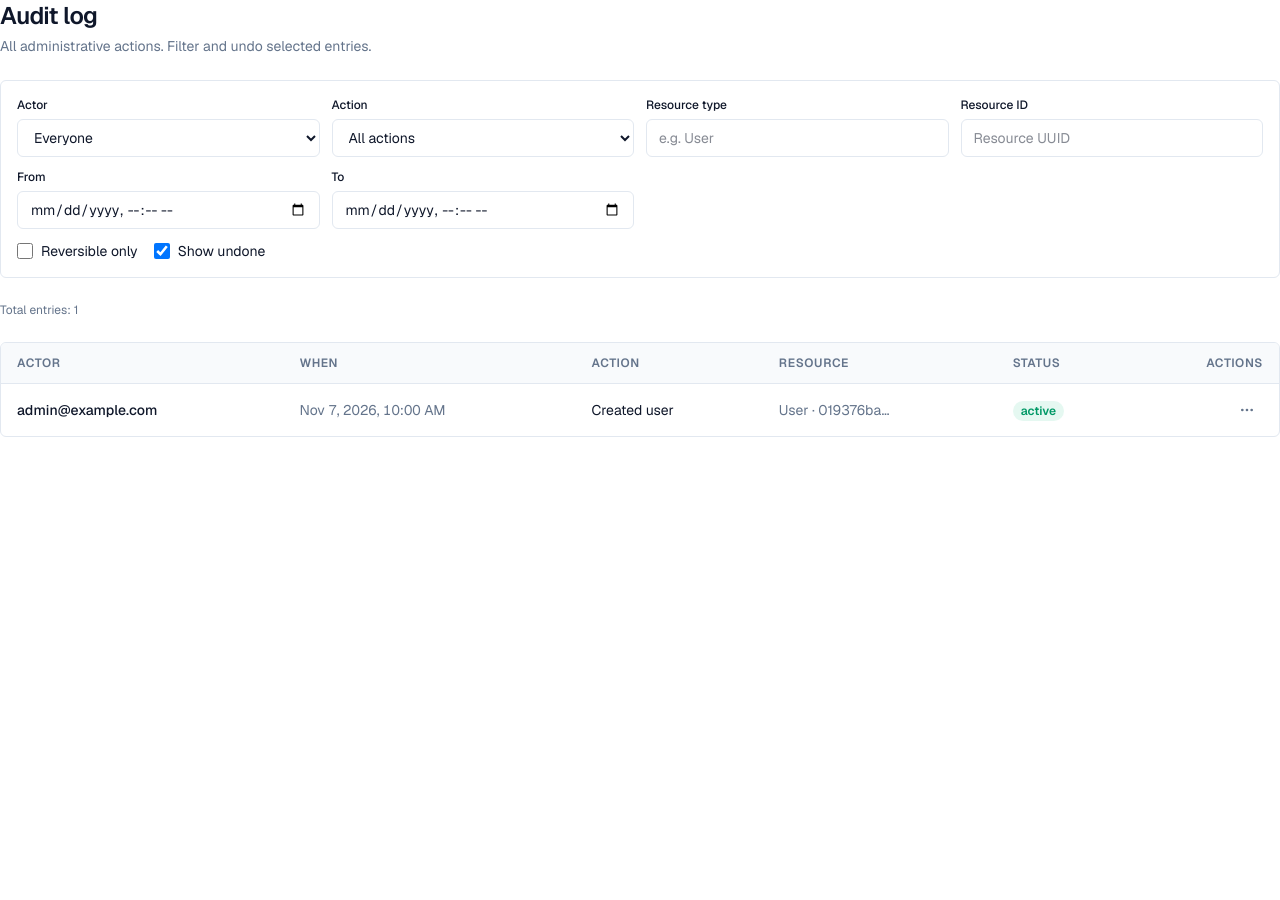
Test: AdminAuditPage › should open the undo dialog with the describe-undo text when Undo is clicked
What coordinates should you click on to do the following:
click the button named "row actions"
I would click on:
 (1247, 410)
Its box is [1231,396,1263,424].
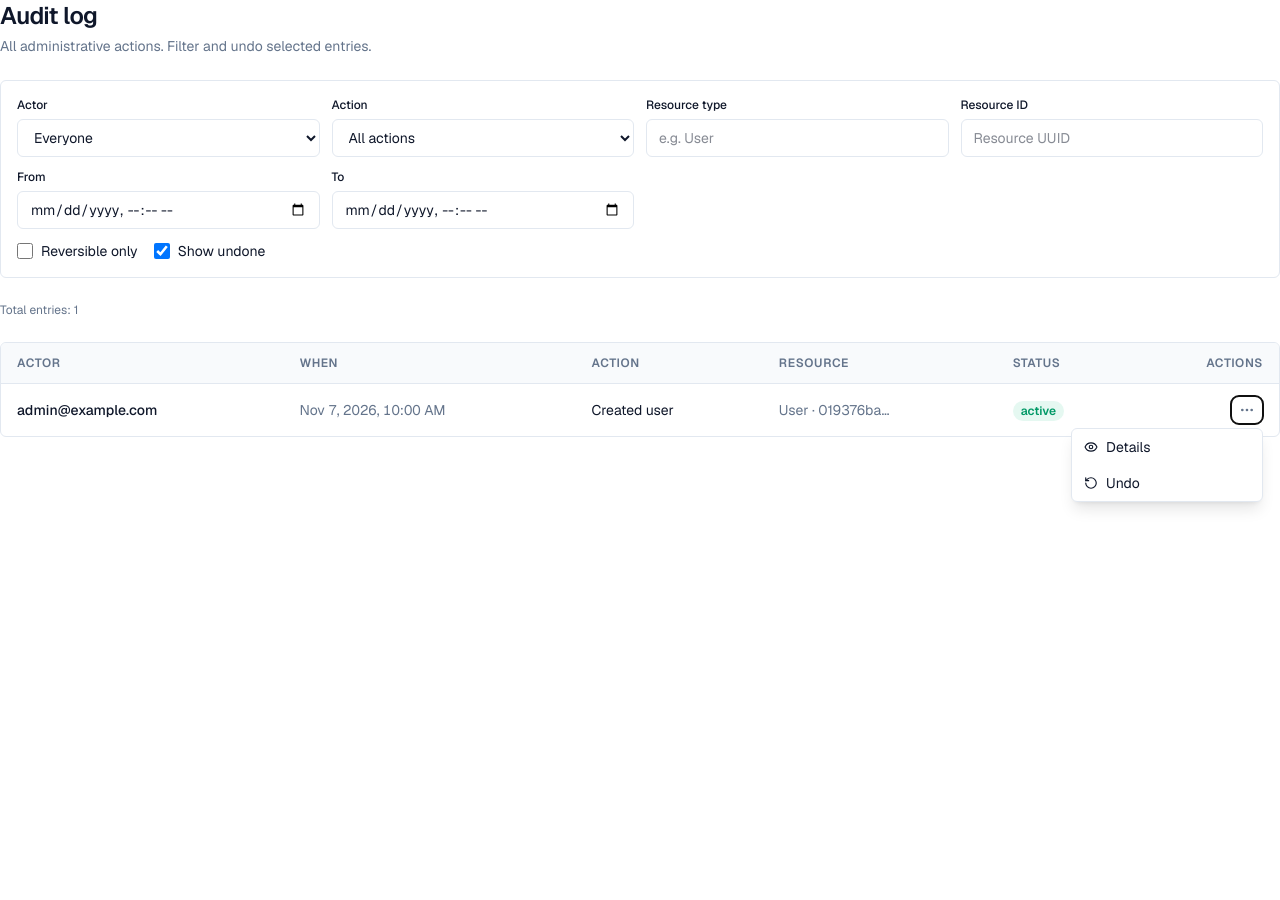
What coordinates should you click on to do the following:
click the menu item "Undo"
I would click on:
 (1167, 483)
Its box is [1072,465,1262,501].
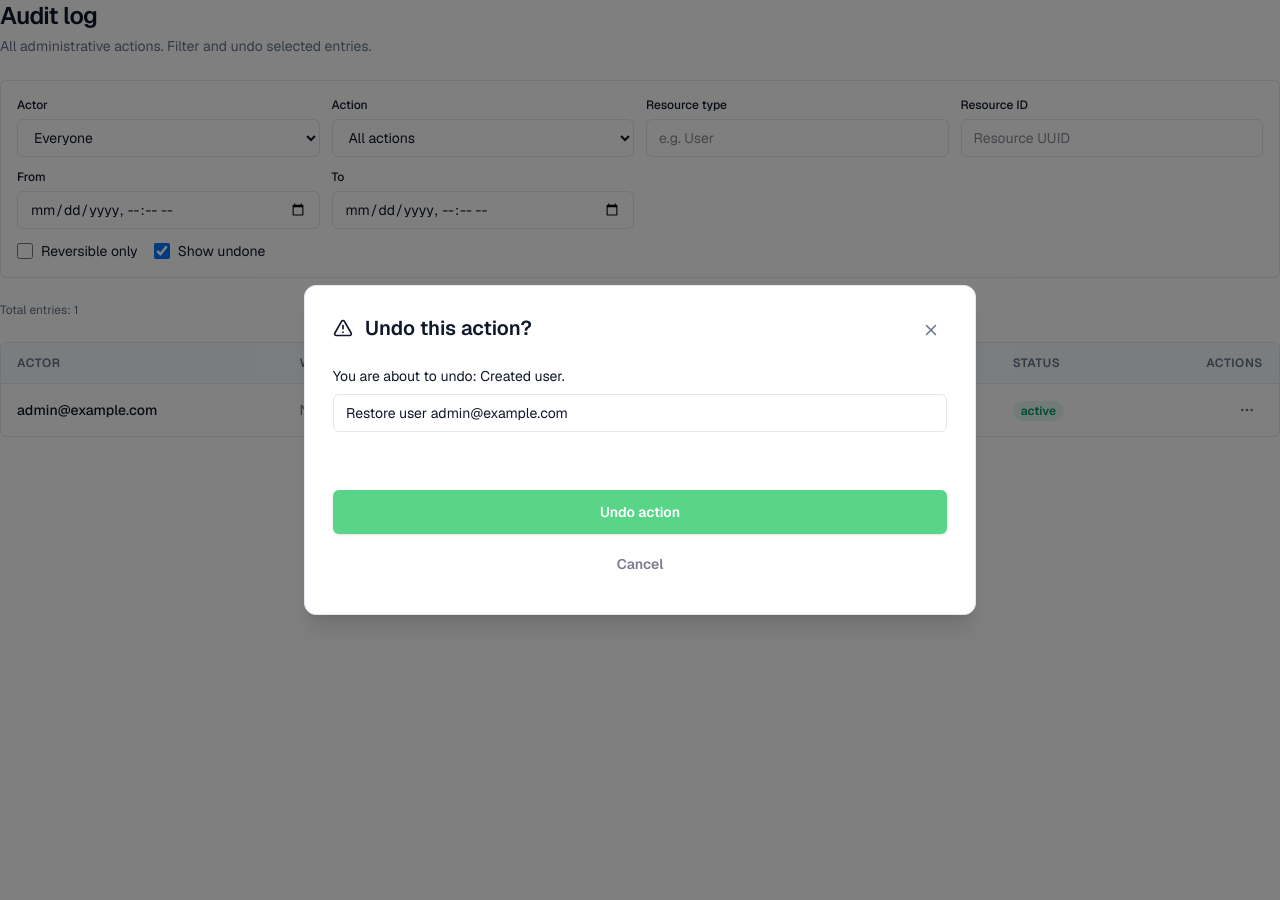
Now the dialog is shown
Now the text "Restore user admin@example.com" is shown, box [333,394,947,432]
